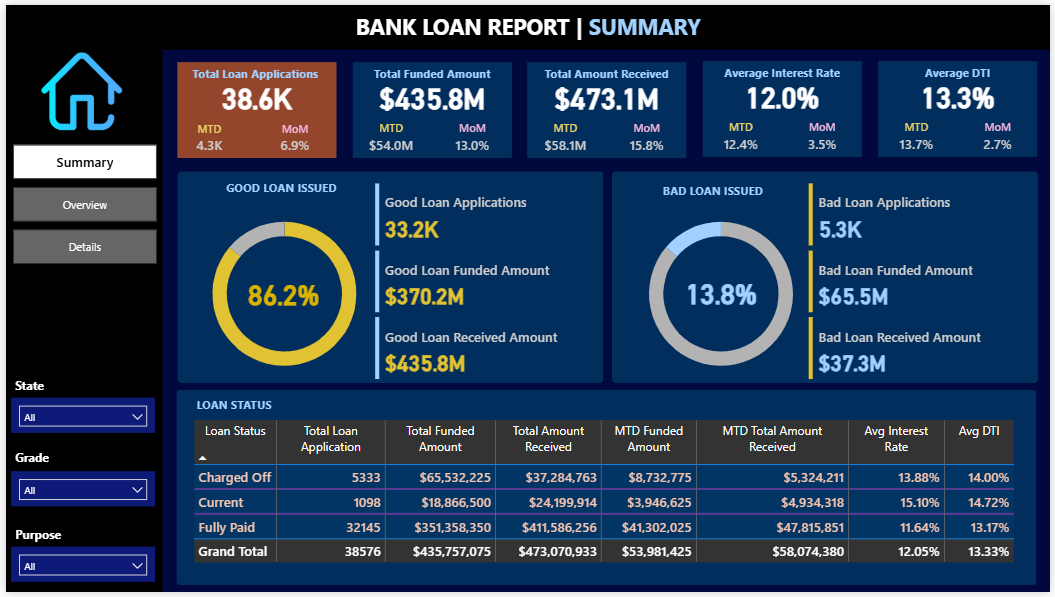

The dashboard page shown, as its layout file describes it:
{"tool":"powerbi","page":{"name":"Summary","canvas":[1280,720],"ordinal":0},"visuals":[{"type":"shape","box":[0,55,192,665],"z":0},{"type":"shape","box":[854.2,69.3,195,117.5],"z":0,"group":"g4"},{"type":"shape","box":[1069.4,69.3,195,117.5],"z":0,"group":"g5"},{"type":"shape","box":[425.2,69.4,195,117.5],"z":0,"group":"g2"},{"type":"shape","box":[639.4,69.4,195,117.5],"z":0,"group":"g3"},{"type":"shape","box":[210.4,70,195,117.5],"z":0,"group":"g1"},{"type":"card","fields":{"Values":["bank_loan_data.Avg Interest Rate"]},"box":[854.2,88.7,195,45.6],"z":1000,"group":"g4"},{"type":"card","fields":{"Values":["bank_loan_data.Avg DTI"]},"box":[1069.4,88.7,195,45.6],"z":1000,"group":"g5"},{"type":"card","fields":{"Values":["bank_loan_data.Total Funded Amount"]},"box":[425.2,88.8,195,45.6],"z":1000,"group":"g2"},{"type":"card","fields":{"Values":["bank_loan_data.Total Amount Received"]},"box":[639.4,88.8,195,45.6],"z":1000,"group":"g3"},{"type":"card","fields":{"Values":["bank_loan_data.Total Loan Application"]},"box":[210.4,89.4,195,45.6],"z":1000,"group":"g1"},{"type":"shape","box":[208.6,471.4,1054.3,240],"z":1000},{"type":"textbox","box":[854,69.6,195.1,30],"z":2000,"group":"g4"},{"type":"textbox","box":[1069.2,69.6,195.1,30],"z":2000,"group":"g5"},{"type":"textbox","box":[425,69.7,195.1,30],"z":2000,"group":"g2"},{"type":"textbox","box":[639.2,69.7,195.1,30],"z":2000,"group":"g3"},{"type":"textbox","box":[210.2,70.3,195.1,30],"z":2000,"group":"g1"},{"type":"shape","box":[209.7,204.2,522.2,259.7],"z":2000},{"type":"card","title":"MTD","fields":{"Values":["bank_loan_data.MTD Avg Int Rate"]},"box":[867.4,140.1,66.4,46.4],"z":3000,"group":"g4"},{"type":"card","title":"MTD","fields":{"Values":["bank_loan_data.MTD Avg DTI"]},"box":[1082.6,140.1,66.4,46.4],"z":3000,"group":"g5"},{"type":"card","title":"MTD","fields":{"Values":["bank_loan_data.MTD Funded Amount"]},"box":[438.4,140.2,66.4,46.4],"z":3000,"group":"g2"},{"type":"card","title":"MTD","fields":{"Values":["bank_loan_data.MTD Total Amount Received"]},"box":[652.6,140.2,66.4,46.4],"z":3000,"group":"g3"},{"type":"card","title":"MTD","fields":{"Values":["bank_loan_data.MTD Loan Applications"]},"box":[224.1,142.2,50.9,45.5],"z":3000,"group":"g1"},{"type":"donutChart","fields":{"Category":["bank_loan_data.Good v Bad Loan"],"Y":["bank_loan_data.Total Loan Application"]},"box":[216.7,238.5,250,230.5],"z":3000},{"type":"shape","box":[0,0,1280,55],"z":4000},{"type":"card","title":"MoM","fields":{"Values":["bank_loan_data.MoM Avg Int Rate"]},"box":[971.9,140.1,58.2,46.4],"z":4000,"group":"g4"},{"type":"card","title":"MoM","fields":{"Values":["bank_loan_data.MoM Avg DTI"]},"box":[1187.1,140.1,58.2,46.4],"z":4000,"group":"g5"},{"type":"card","title":"MoM","fields":{"Values":["bank_loan_data.MoM Total Funded Amount"]},"box":[542.9,140.2,58.2,46.4],"z":4000,"group":"g2"},{"type":"card","title":"MoM","fields":{"Values":["bank_loan_data.MoM Total Amount Recieved"]},"box":[757.1,140.2,58.2,46.4],"z":4000,"group":"g3"},{"type":"card","title":"MoM","fields":{"Values":["bank_loan_data.MoM Loan Application"]},"box":[329.6,142.2,50.9,45.5],"z":4000,"group":"g1"},{"type":"textbox","box":[243.1,209.7,194.4,30.6],"z":5000},{"type":"card","fields":{"Values":["bank_loan_data.Good Loan %"]},"box":[276.4,330.2,127.8,45.8],"z":6000},{"type":"textbox","box":[416.2,3.8,447.5,47.5],"z":7000},{"type":"group","id":"g1","title":"Group 1","box":[210.2,70,195.2,117.6],"z":8000},{"type":"group","id":"g2","title":"Group 1","box":[425,69.4,194.4,118.1],"z":9000},{"type":"group","id":"g3","title":"Group 1","box":[639.2,69.4,195.5,117.3],"z":10000},{"type":"group","id":"g4","title":"Group 1","box":[854,69.3,195.8,117.5],"z":11000},{"type":"group","id":"g5","title":"Group 1","box":[1069.2,69.3,195.8,117.5],"z":12000},{"type":"shape","box":[743.1,204.2,522.2,259.7],"z":13000},{"type":"cardVisual","fields":{"Data":["bank_loan_data.Good Loan Applications","bank_loan_data.Good Loan Funded Amount","bank_loan_data.Good Loan Received Amount"]},"box":[447.2,213.9,284.7,250],"z":14000},{"type":"donutChart","fields":{"Category":["bank_loan_data.Good v Bad Loan"],"Y":["bank_loan_data.Total Loan Application"]},"box":[751.4,238.9,250,230.5],"z":15000},{"type":"textbox","box":[770.8,213.9,194.4,30.6],"z":16000},{"type":"card","fields":{"Values":["bank_loan_data.Bad Loan %"]},"box":[812.5,329.2,127.8,45.8],"z":17000},{"type":"cardVisual","fields":{"Data":["bank_loan_data.Bad Loan Applications","bank_loan_data.Bad Loan Funded Amount","bank_loan_data.Bad Loan Received Amount"]},"box":[979.2,213.9,284.7,250],"z":18000},{"type":"tableEx","fields":{"Values":["bank_loan_data.loan_status","bank_loan_data.Total Loan Application","bank_loan_data.Total Funded Amount","bank_loan_data.Total Amount Received","bank_loan_data.MTD Funded Amount","bank_loan_data.MTD Total Amount Received","bank_loan_data.Avg Interest Rate","bank_loan_data.Avg DTI"]},"box":[224.5,503.8,1020.8,194.3],"z":19000},{"type":"textbox","box":[228.9,475.6,111.1,33.3],"z":20000},{"type":"slicer","fields":{"Values":["bank_loan_data.address_state"]},"box":[6.2,481.8,176.7,43.3],"z":21000},{"type":"textbox","box":[6.2,451.8,57.8,30],"z":22000},{"type":"slicer","fields":{"Values":["bank_loan_data.grade"]},"box":[6.2,571.8,176.7,43.3],"z":23000},{"type":"textbox","box":[6.2,539.6,65.6,30],"z":24000},{"type":"slicer","fields":{"Values":["bank_loan_data.purpose"]},"box":[6.2,664,176.7,43.3],"z":25000},{"type":"textbox","box":[6.2,634,86.7,30],"z":26000},{"type":"pageNavigator","box":[8.8,171.2,176.2,146.2],"z":27000},{"type":"image","box":[37.5,51.2,110,108.8],"z":28000}]}

Visuals, with their boxes in screenshot pixels (x1, y1, x2, y2), scaled from the page's 1280x720 canvas onto the 1055x597 screenshot:
shape: locate(0, 46, 158, 596)
shape: locate(704, 57, 865, 155)
shape: locate(881, 57, 1042, 155)
shape: locate(350, 58, 511, 155)
shape: locate(527, 58, 688, 155)
shape: locate(173, 58, 334, 155)
card - bank_loan_data.Avg Interest Rate: locate(704, 74, 865, 111)
card - bank_loan_data.Avg DTI: locate(881, 74, 1042, 111)
card - bank_loan_data.Total Funded Amount: locate(350, 74, 511, 111)
card - bank_loan_data.Total Amount Received: locate(527, 74, 688, 111)
card - bank_loan_data.Total Loan Application: locate(173, 74, 334, 112)
shape: locate(172, 391, 1041, 590)
textbox: locate(704, 58, 865, 83)
textbox: locate(881, 58, 1042, 83)
textbox: locate(350, 58, 511, 83)
textbox: locate(527, 58, 688, 83)
textbox: locate(173, 58, 334, 83)
shape: locate(173, 169, 603, 385)
"MTD" card: locate(715, 116, 770, 155)
"MTD" card: locate(892, 116, 947, 155)
"MTD" card: locate(361, 116, 416, 155)
"MTD" card: locate(538, 116, 593, 155)
"MTD" card: locate(185, 118, 227, 156)
donutChart - bank_loan_data.Good v Bad Loan x bank_loan_data.Total Loan Application: locate(179, 198, 385, 389)
shape: locate(0, 0, 1054, 46)
"MoM" card: locate(801, 116, 849, 155)
"MoM" card: locate(978, 116, 1026, 155)
"MoM" card: locate(447, 116, 495, 155)
"MoM" card: locate(624, 116, 672, 155)
"MoM" card: locate(272, 118, 314, 156)
textbox: locate(200, 174, 361, 199)
card - bank_loan_data.Good Loan %: locate(228, 274, 333, 312)
textbox: locate(343, 3, 712, 43)
"Group 1" group: locate(173, 58, 334, 156)
"Group 1" group: locate(350, 58, 511, 155)
"Group 1" group: locate(527, 58, 688, 155)
"Group 1" group: locate(704, 57, 865, 155)
"Group 1" group: locate(881, 57, 1043, 155)
shape: locate(612, 169, 1043, 385)
cardVisual - bank_loan_data.Good Loan Applications x bank_loan_data.Good Loan Funded Amount: locate(369, 177, 603, 385)
donutChart - bank_loan_data.Good v Bad Loan x bank_loan_data.Total Loan Application: locate(619, 198, 825, 389)
textbox: locate(635, 177, 796, 203)
card - bank_loan_data.Bad Loan %: locate(670, 273, 775, 311)
cardVisual - bank_loan_data.Bad Loan Applications x bank_loan_data.Bad Loan Funded Amount: locate(807, 177, 1042, 385)
tableEx - bank_loan_data.loan_status x bank_loan_data.Total Loan Application: locate(185, 418, 1026, 579)
textbox: locate(189, 394, 280, 422)
slicer - bank_loan_data.address_state: locate(5, 399, 151, 435)
textbox: locate(5, 375, 53, 399)
slicer - bank_loan_data.grade: locate(5, 474, 151, 510)
textbox: locate(5, 447, 59, 472)
slicer - bank_loan_data.purpose: locate(5, 551, 151, 586)
textbox: locate(5, 526, 77, 551)
pageNavigator: locate(7, 142, 152, 263)
image: locate(31, 42, 122, 133)
